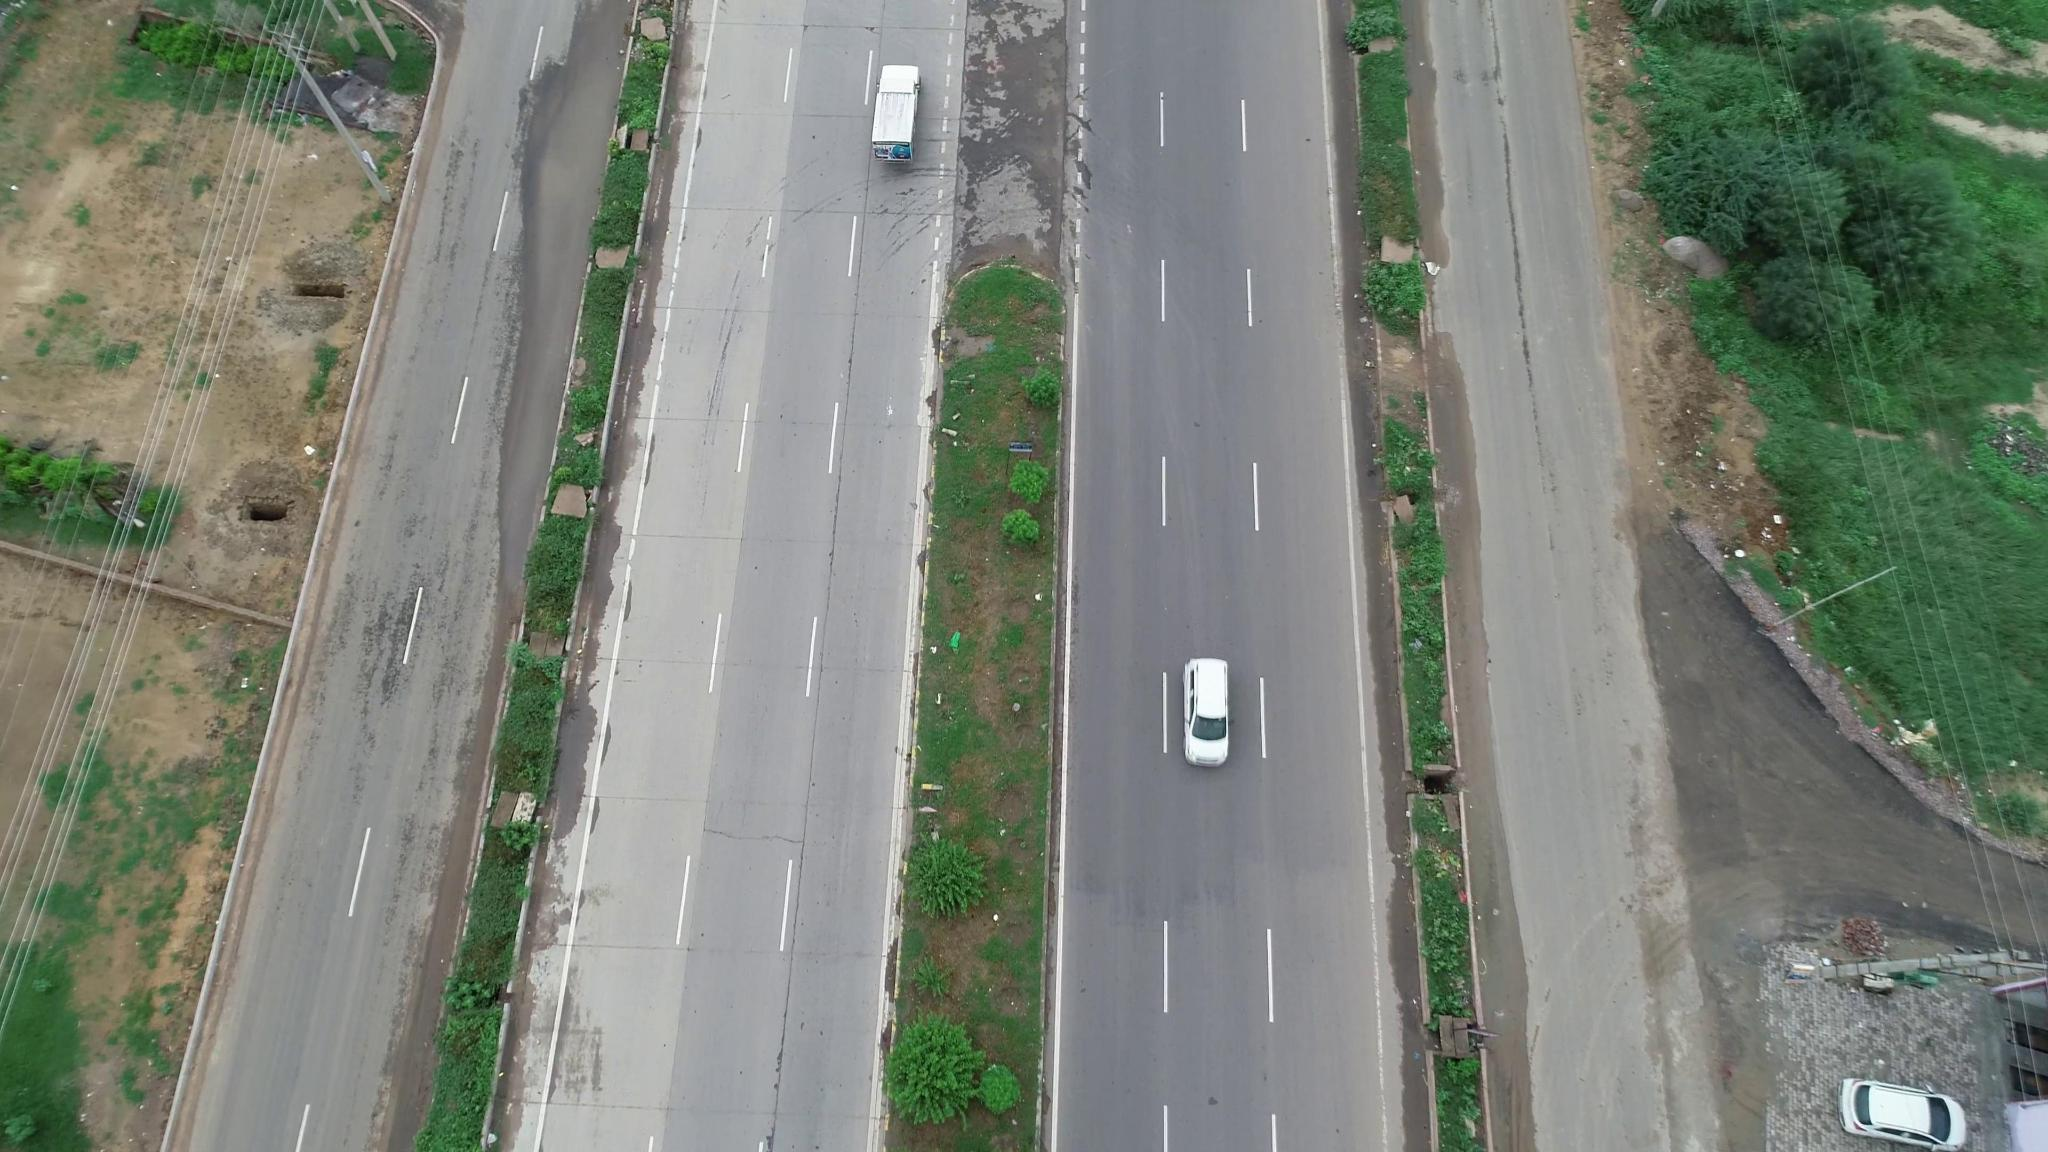Cracks: (1488, 23, 1543, 437)
Waterlogging: (482, 56, 615, 520)
